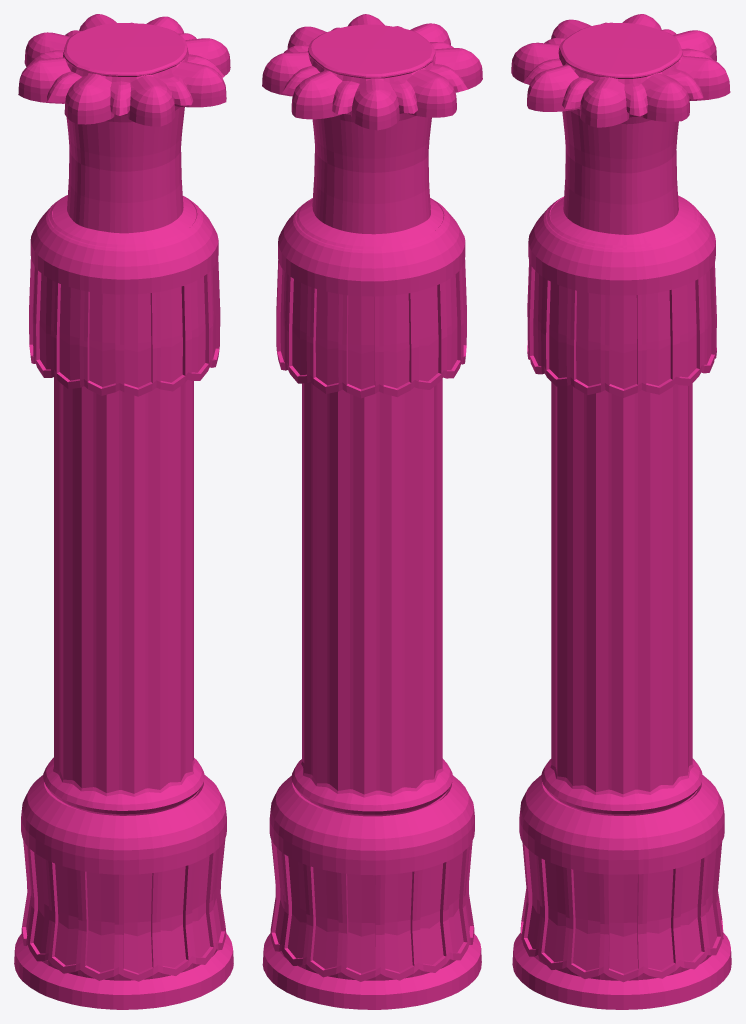
Rendered from Col_Main.FBX.
3 views of the same model, side by side, from view 1: azimuth 30°, elevation 25°; view 2: azimuth 150°, elevation 25°; view 3: azimuth 270°, elevation 25° (orthographic).
Visible parts, largest first — view 1: LP_COl_MAin; view 2: LP_COl_MAin; view 3: LP_COl_MAin.
Part boxes in pixels (left/top/right/bottom): LP_COl_MAin: left=14, top=14, right=233, bottom=1009; LP_COl_MAin: left=262, top=14, right=482, bottom=1009; LP_COl_MAin: left=511, top=14, right=731, bottom=1009.
Size of the model in its own units: 112 by 516 by 113.
